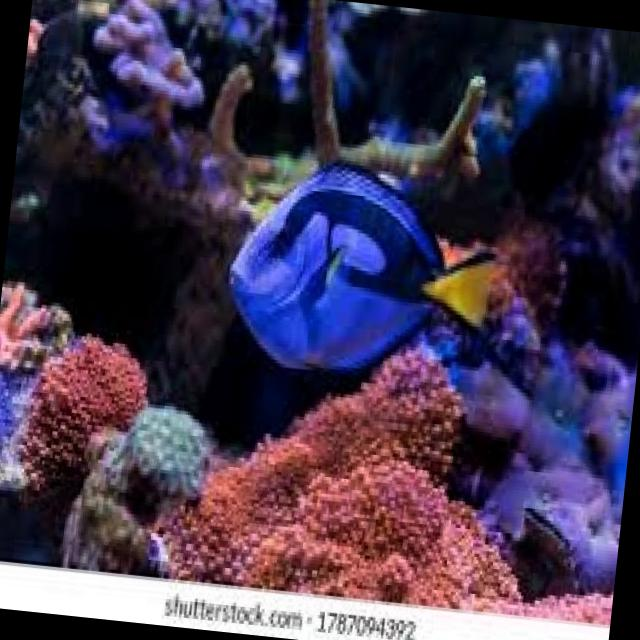TangFish: (213, 144, 508, 393)
